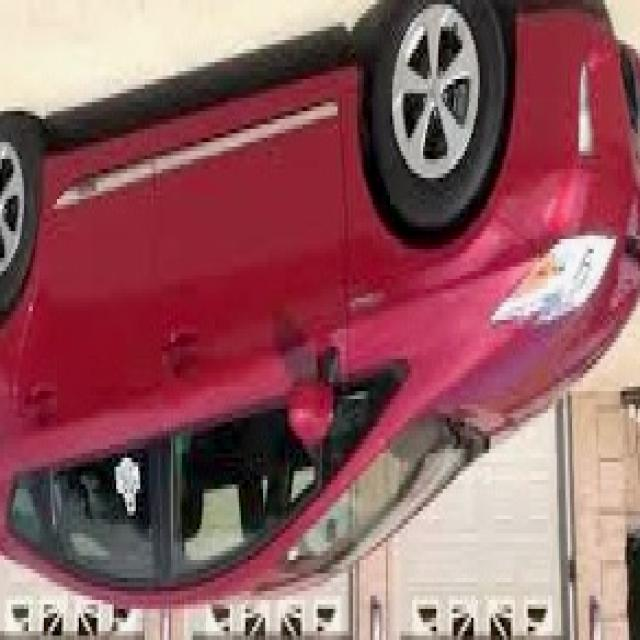maroon: (0, 0, 635, 608)
